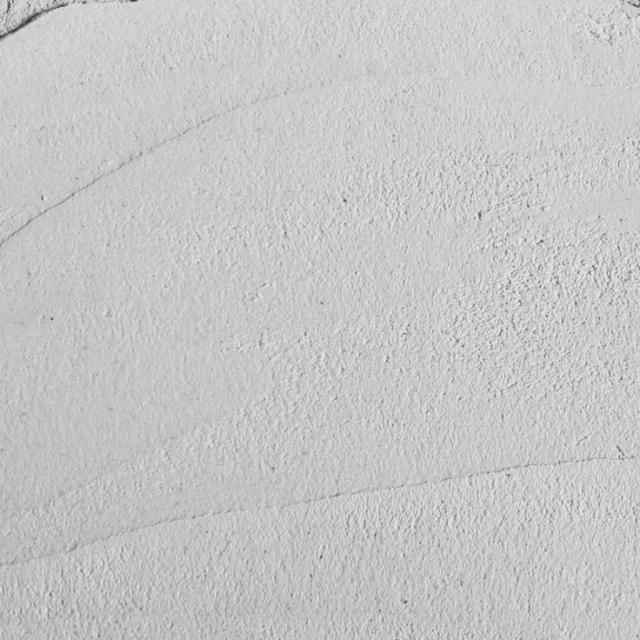trowels marks: (0, 375, 637, 593), (0, 0, 365, 262)
